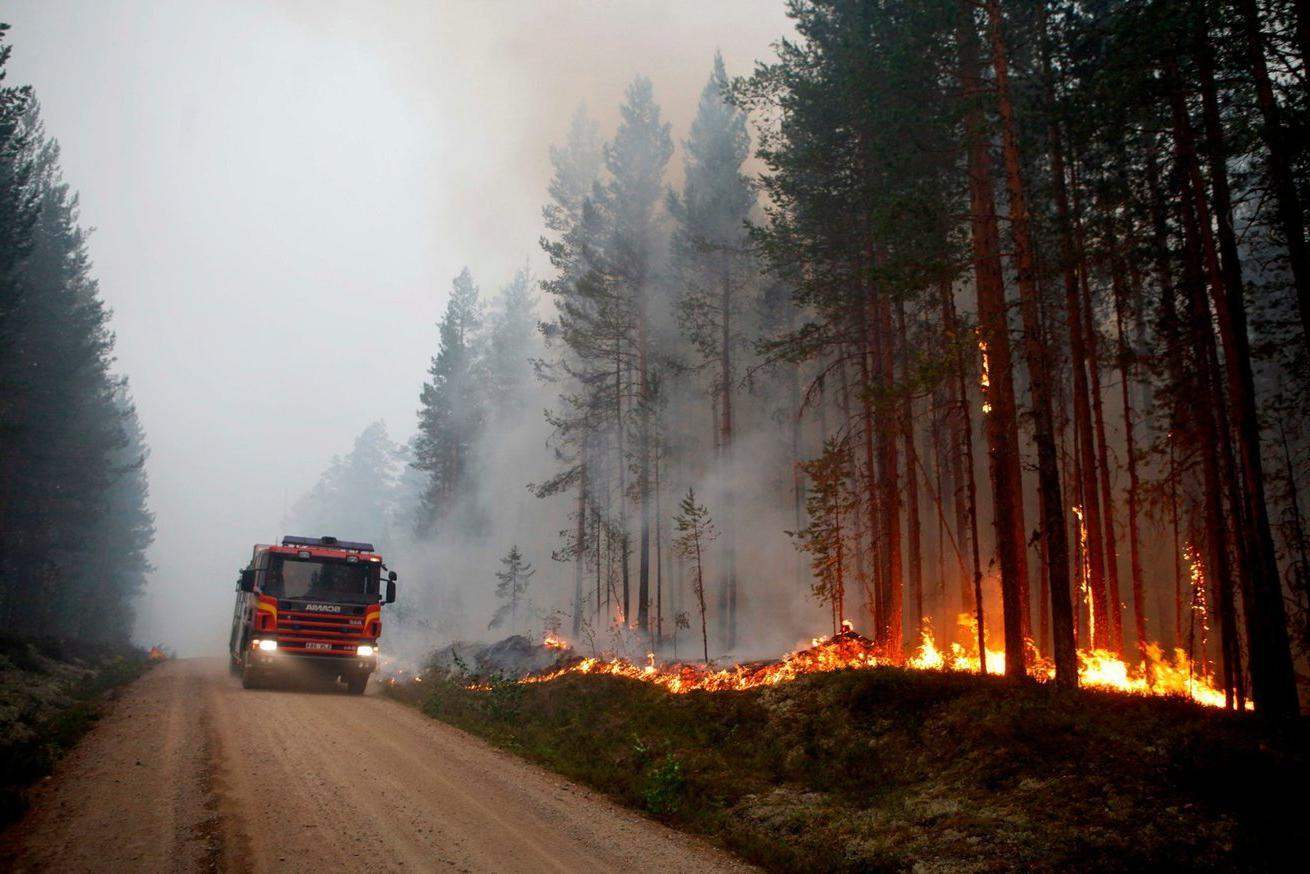Fire: (501, 579, 1282, 736), (1177, 547, 1213, 623), (1074, 502, 1098, 578), (976, 322, 991, 394)
